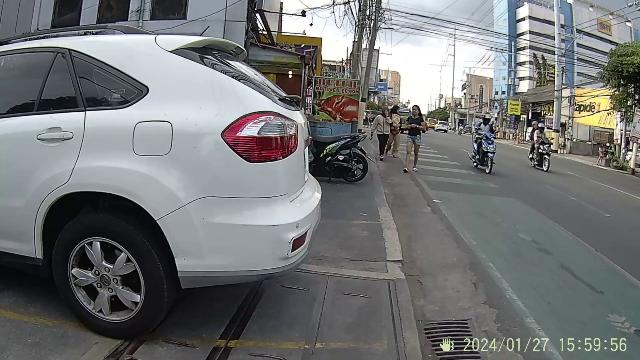cracked_pavement: (324, 244, 428, 292)
street_vendor_cart: (310, 75, 366, 129)
